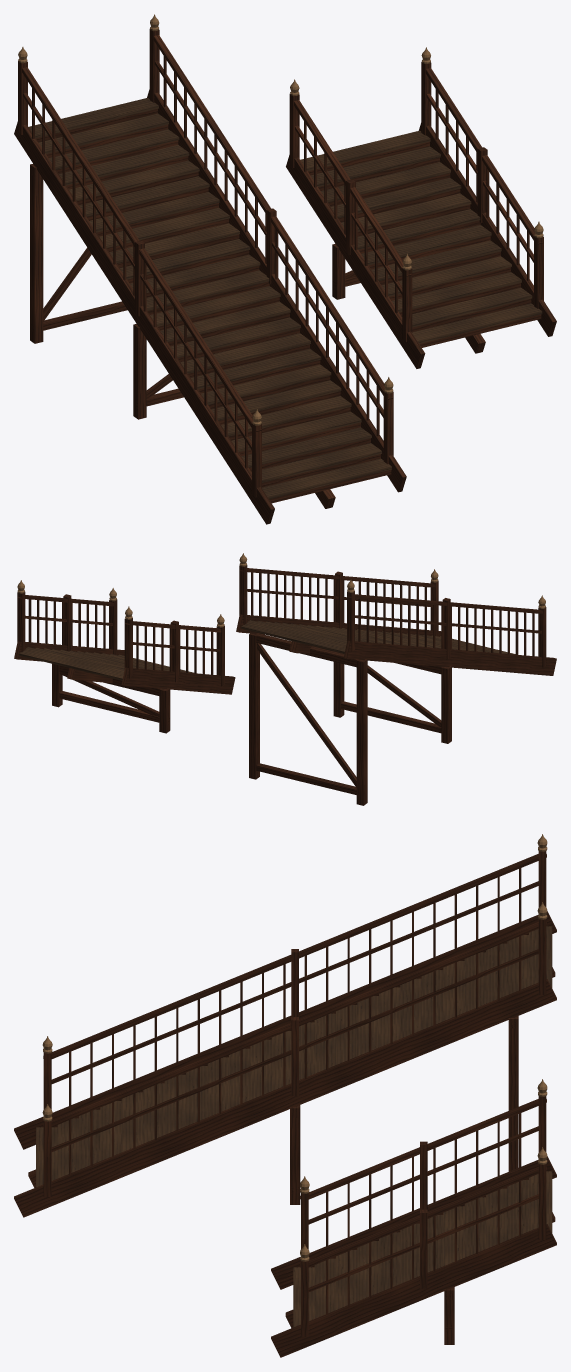
File: staircase_modules.glb
3 views of the same model, one above another, from view 1: azimuth 30°, elevation 25°; view 2: azimuth 150°, elevation 25°; view 3: azimuth 270°, elevation 25° (orthographic). The views are drawn at different scales.
Visible parts, largest first — view 1: IC05_Staircase_Full__Mesh, IC05_Staircase_Half__Mesh; view 2: IC05_Staircase_Full__Mesh, IC05_Staircase_Half__Mesh; view 3: IC05_Staircase_Full__Mesh, IC05_Staircase_Half__Mesh.
Part boxes in pixels (box(x1,y1,x2,y2)): IC05_Staircase_Full__Mesh: box(14, 14, 406, 524); IC05_Staircase_Half__Mesh: box(286, 47, 556, 368); IC05_Staircase_Full__Mesh: box(236, 553, 556, 805); IC05_Staircase_Half__Mesh: box(14, 580, 235, 733); IC05_Staircase_Full__Mesh: box(14, 834, 556, 1217); IC05_Staircase_Half__Mesh: box(271, 1079, 556, 1357).
Bounding box in the file's own units: 7.82 × 5.48 × 8.45.
Materials: 3 (2 with a texture image).
